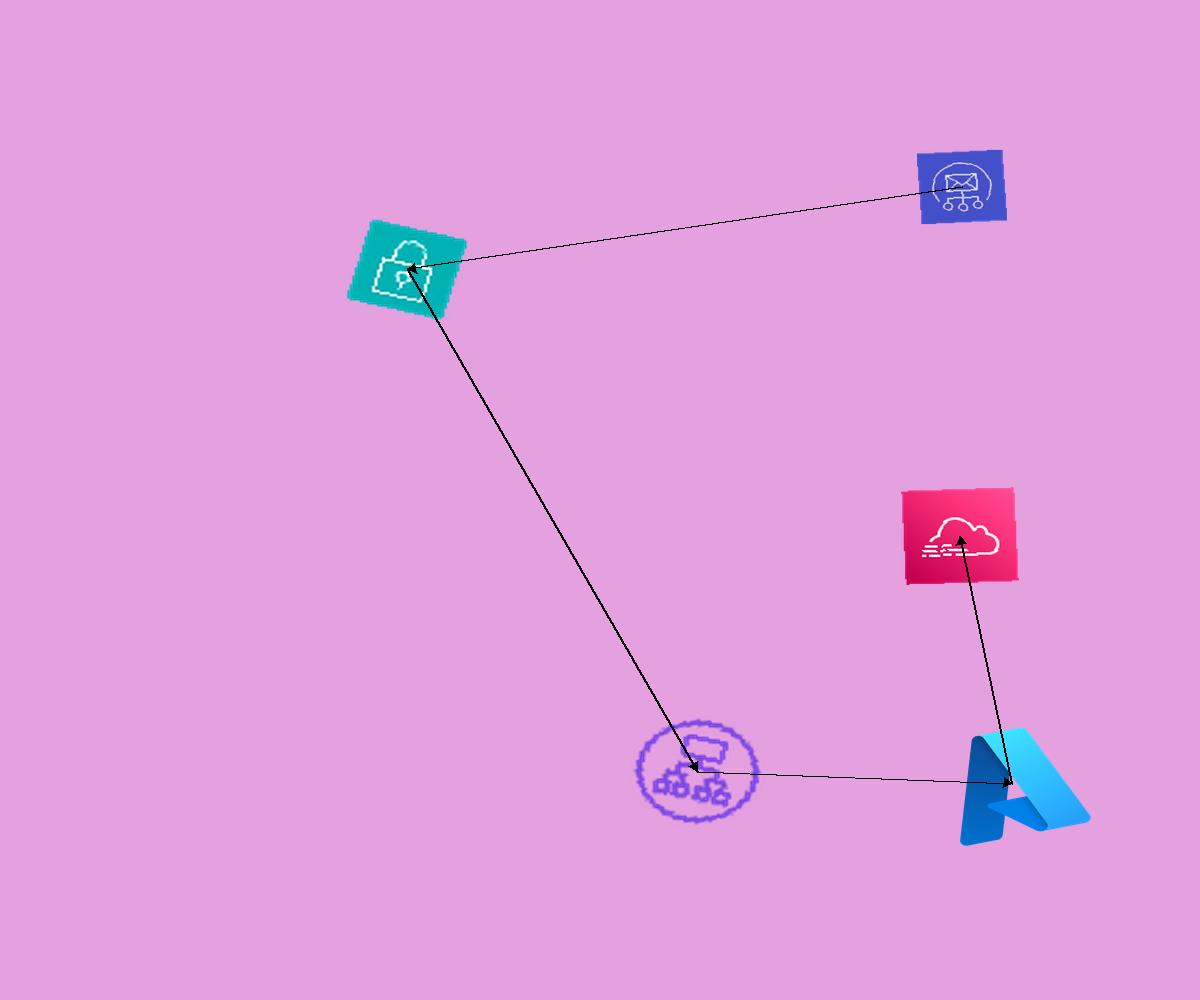AWS-CloudTrail: (901, 487, 1019, 585)
AWS-Private-subnet: (345, 218, 469, 321)
AWS-Res_Elastic-Load-Balancing_Application-Load-Balancer: (614, 702, 781, 841)
AWS-Simple-Email-Service: (916, 149, 1008, 225)
Azure_services: (925, 710, 1100, 856)
